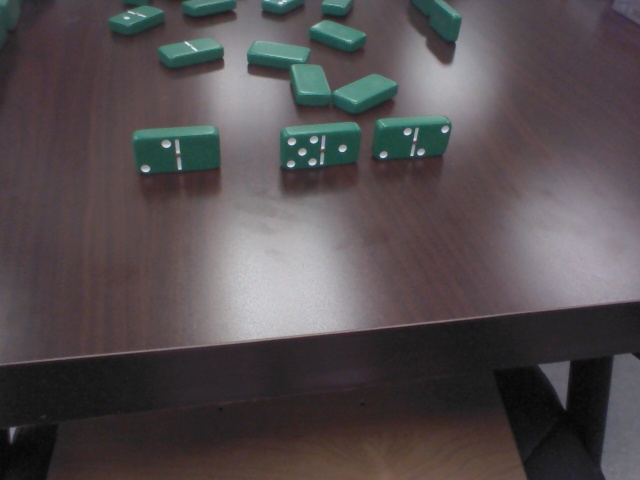A: (332, 68, 400, 114), (303, 13, 369, 53), (286, 61, 332, 107), (247, 37, 311, 68)
B: (153, 36, 231, 72), (102, 4, 161, 34), (259, 1, 305, 16)
D: (426, 3, 464, 46), (411, 1, 436, 16)
E: (128, 126, 226, 176), (278, 121, 366, 174), (370, 116, 458, 160)
